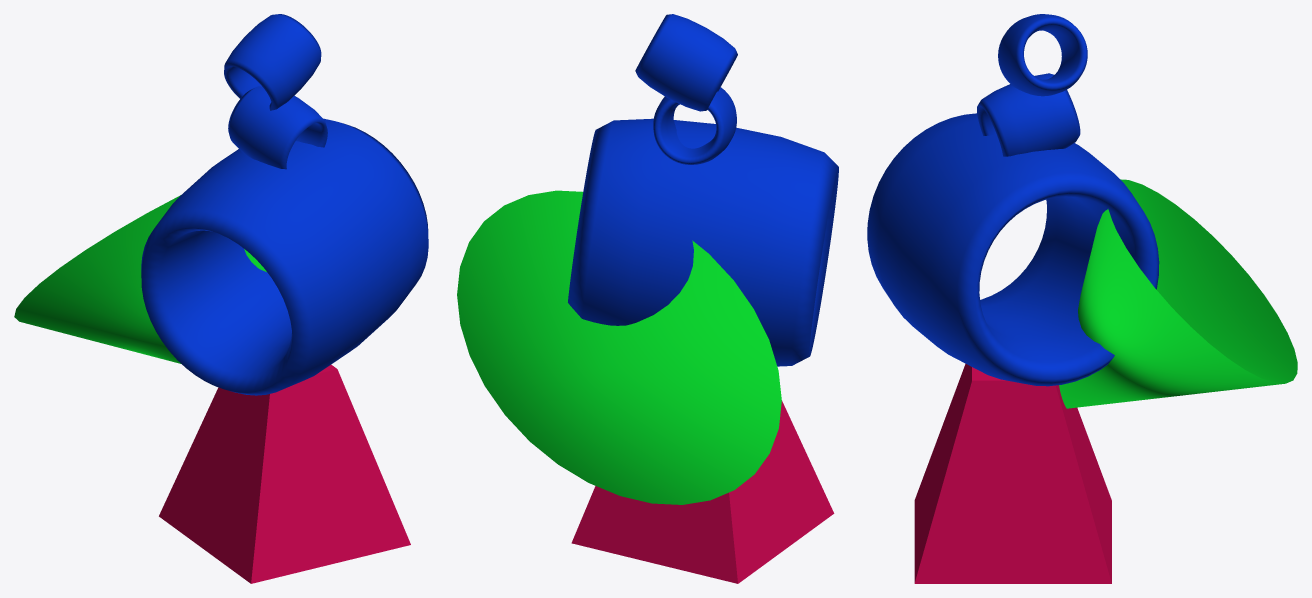
File: simpleScene.dae
The picture shows the model from 3 angles, left to right: view 1: azimuth 30°, elevation 25°; view 2: azimuth 150°, elevation 25°; view 3: azimuth 270°, elevation 25°; orthographic projection. The views are drawn at different scales.
Parts seen in each view (by area): view 1: Barrel, Frustum, Speaker, BarrelChild2, BarrelChild; view 2: Speaker, Barrel, Frustum, BarrelChild2, BarrelChild; view 3: Barrel, Frustum, Speaker, BarrelChild, BarrelChild2.
Boxes of the visible parts, box(x1,y1,x2,y2) form: Barrel: box(141, 118, 428, 395); Frustum: box(159, 364, 410, 583); Speaker: box(14, 195, 266, 363); BarrelChild2: box(224, 14, 321, 110); BarrelChild: box(228, 86, 327, 169); Speaker: box(457, 190, 781, 504); Barrel: box(568, 118, 838, 366); Frustum: box(571, 401, 834, 583); BarrelChild2: box(635, 14, 737, 111); BarrelChild: box(653, 87, 736, 164); Barrel: box(867, 113, 1159, 386); Frustum: box(914, 363, 1111, 583); Speaker: box(1059, 179, 1297, 408); BarrelChild: box(977, 73, 1080, 156); BarrelChild2: box(998, 14, 1087, 96).
Size of the model in its own units: 3.96 by 4.36 by 5.95.
